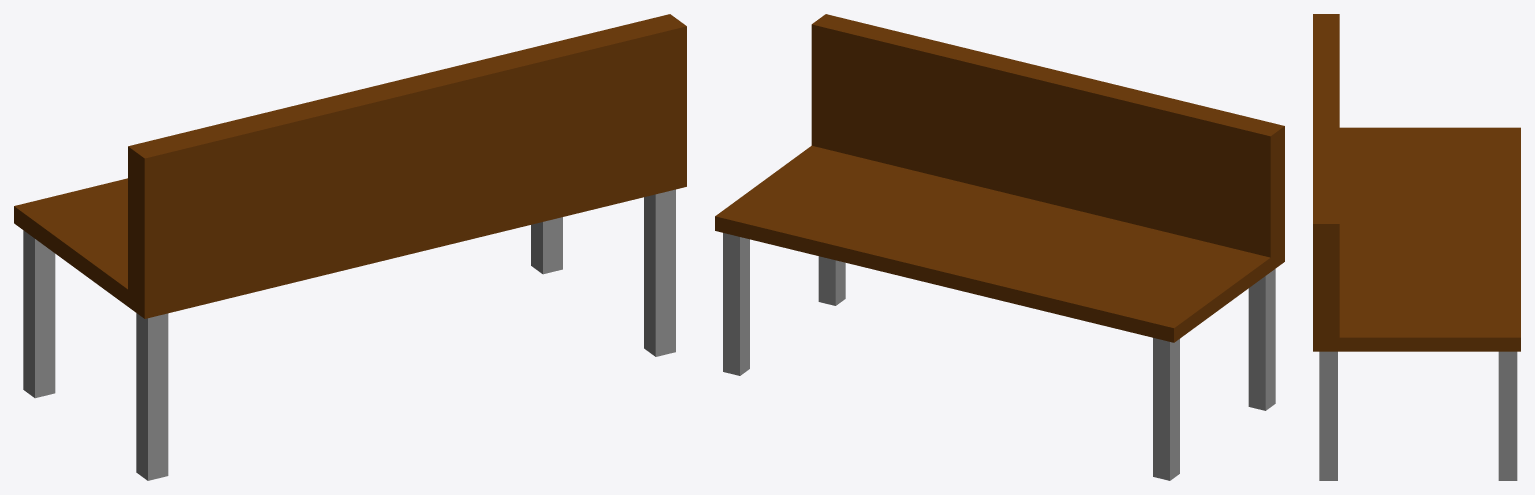
The model's file is bench_1.fbx.
The picture shows the model from 3 angles, left to right: view 1: azimuth 30°, elevation 25°; view 2: azimuth 150°, elevation 25°; view 3: azimuth 270°, elevation 25°; orthographic projection. The views are drawn at different scales.
Visible parts, largest first — view 1: bench_1; view 2: bench_1; view 3: bench_1.
Boxes of the visible parts, bbox=[...] form: bench_1: bbox=[14, 14, 686, 480]; bench_1: bbox=[715, 14, 1284, 480]; bench_1: bbox=[1313, 14, 1520, 480].
Size of the model in its own units: 479 by 276 by 200.
